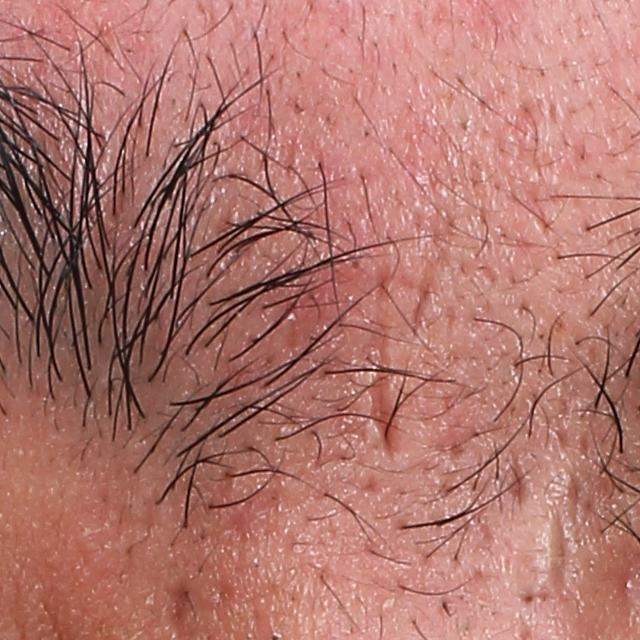atrophic_scar: (211, 482, 286, 575), (362, 268, 398, 460), (565, 464, 628, 536), (412, 239, 444, 351), (545, 503, 572, 617), (505, 458, 530, 513)
